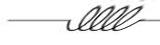inductor: (60, 1, 149, 36)
